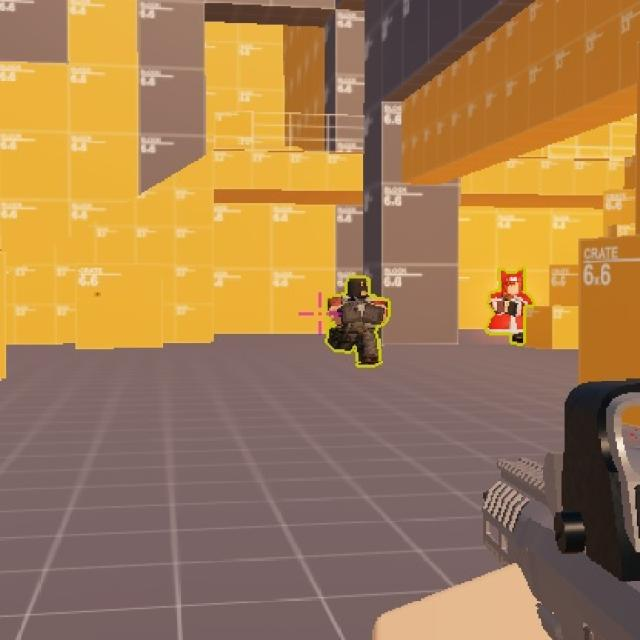player: (322, 272, 383, 368), (484, 266, 536, 347)
